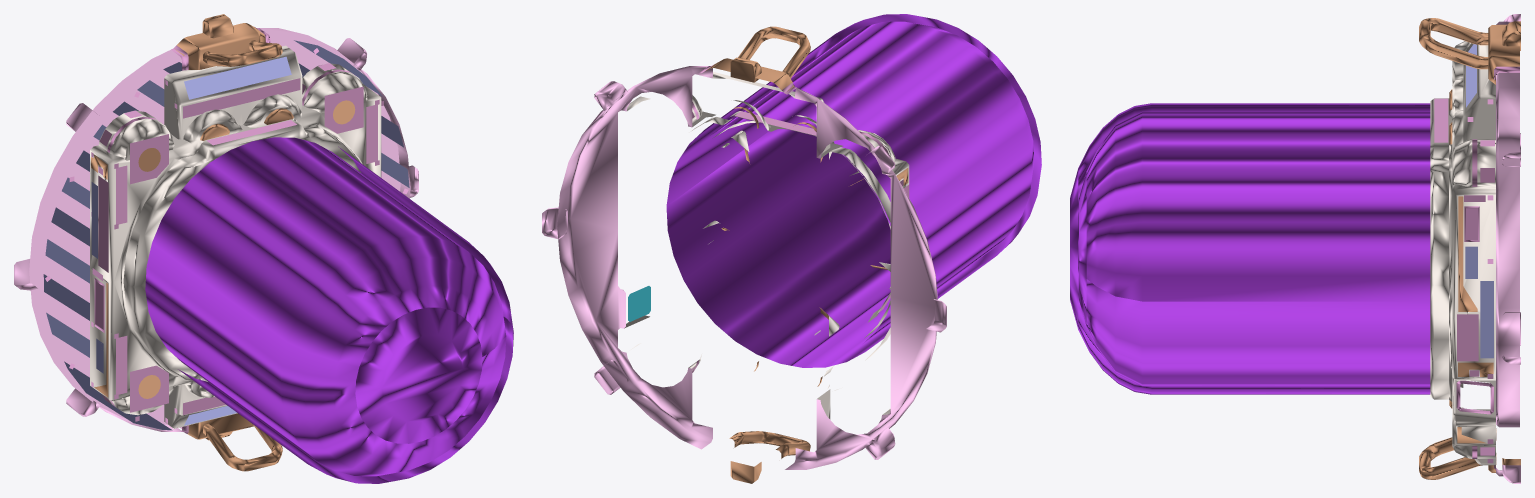
Rendered from display-case_plant_1_a.glb.
3 views of the same model, side by side, from view 1: azimuth 30°, elevation 25°; view 2: azimuth 150°, elevation 25°; view 3: azimuth 270°, elevation 25° (orthographic). The views are drawn at different scales.
Bounding box in the file's own units: 0.7365 × 0.7365 × 0.675.
